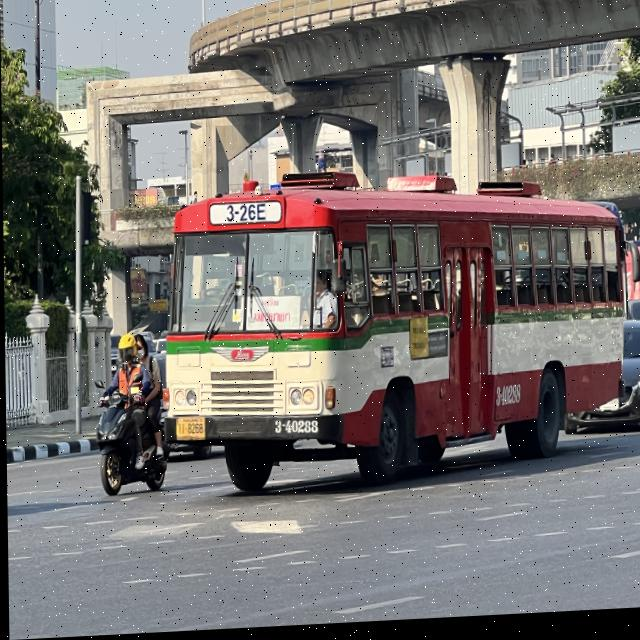BMTA-bus: (163, 180, 626, 498)
Bus Line Number: (221, 203, 272, 228)
Bus Side Number: (269, 419, 322, 441), (491, 389, 523, 413)
Destination Sign: (239, 299, 298, 335)
